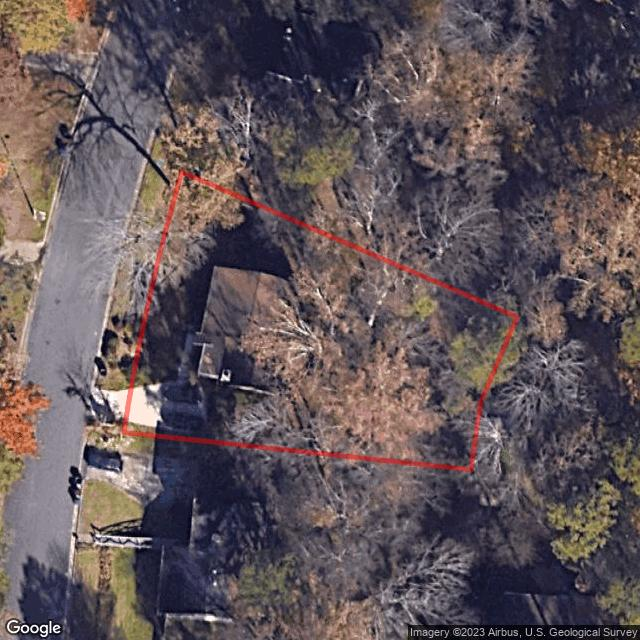Driveway: (129, 335, 205, 427)
Extra Driveway: (87, 388, 127, 421)
Extra Lawn: (96, 167, 177, 388)
House: (193, 264, 302, 394)
